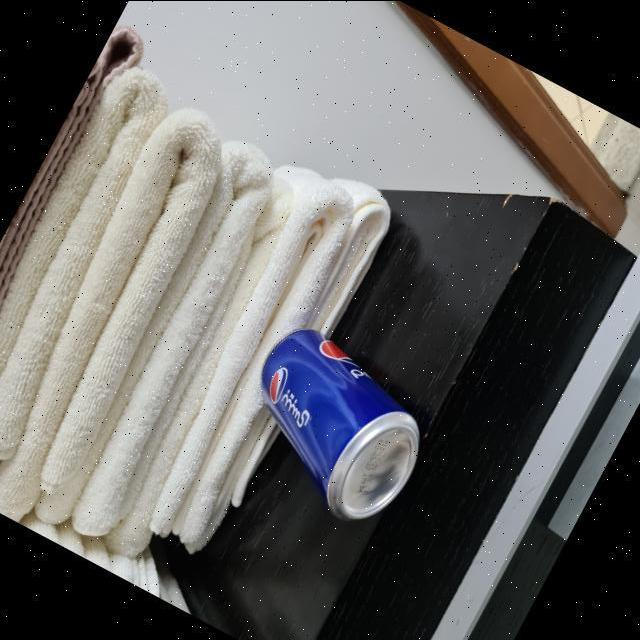can: (217, 305, 453, 533)
